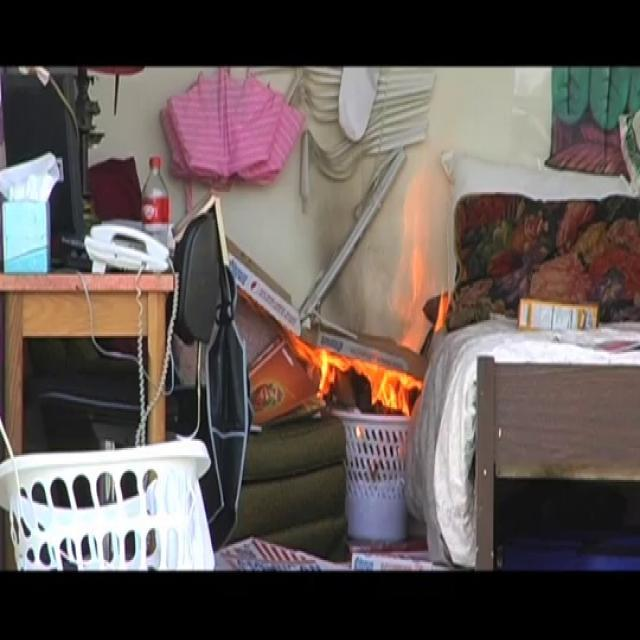Fire: (310, 330, 420, 414)
